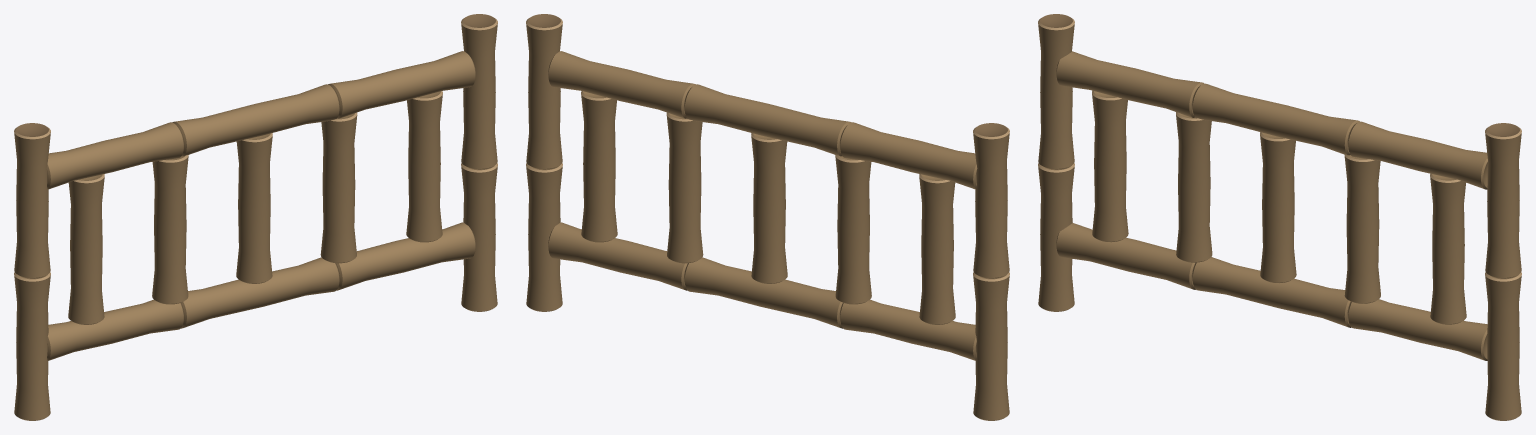
Rendered from barrierC1.fbx.
The picture shows the model from 3 angles, left to right: view 1: azimuth 30°, elevation 25°; view 2: azimuth 150°, elevation 25°; view 3: azimuth 330°, elevation 25°; orthographic projection.
Parts seen in each view (by area): view 1: bar2Cyll; view 2: bar2Cyll; view 3: bar2Cyll.
Boxes of the visible parts, left/top/right/bottom form: bar2Cyll: left=14, top=14, right=497, bottom=420; bar2Cyll: left=526, top=14, right=1009, bottom=420; bar2Cyll: left=1038, top=14, right=1521, bottom=420.
Size of the model in its own units: 184 by 104 by 12.28.
1 material, 1 textured.
